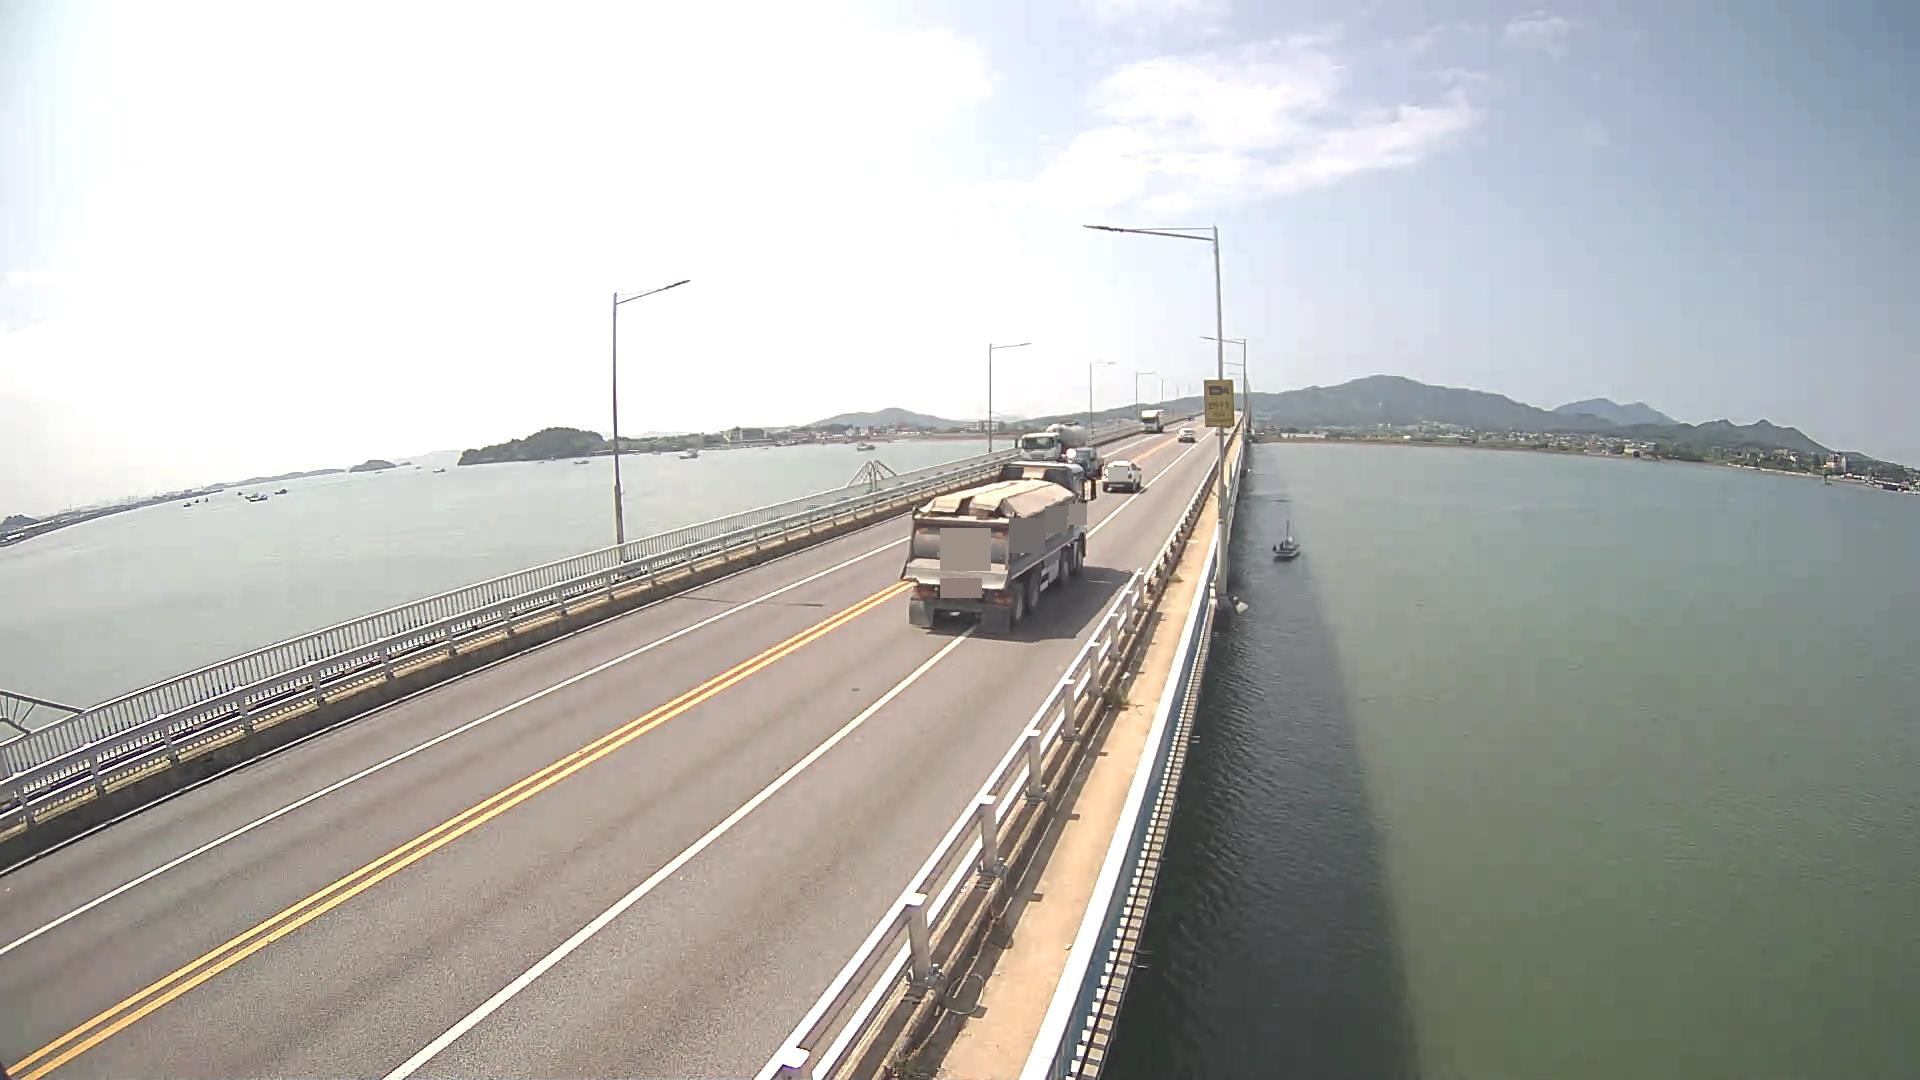정상차량: (899, 462, 1096, 635)
